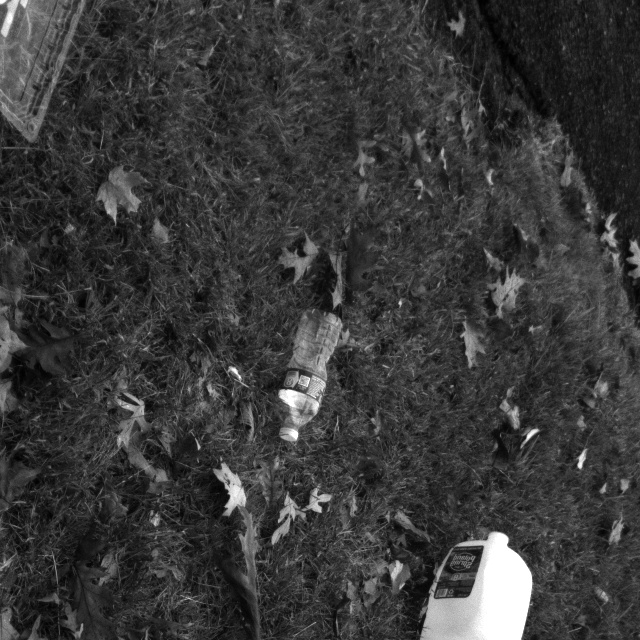bottle: (270, 308, 356, 445)
can: (421, 533, 538, 640)
container: (0, 0, 112, 152)
